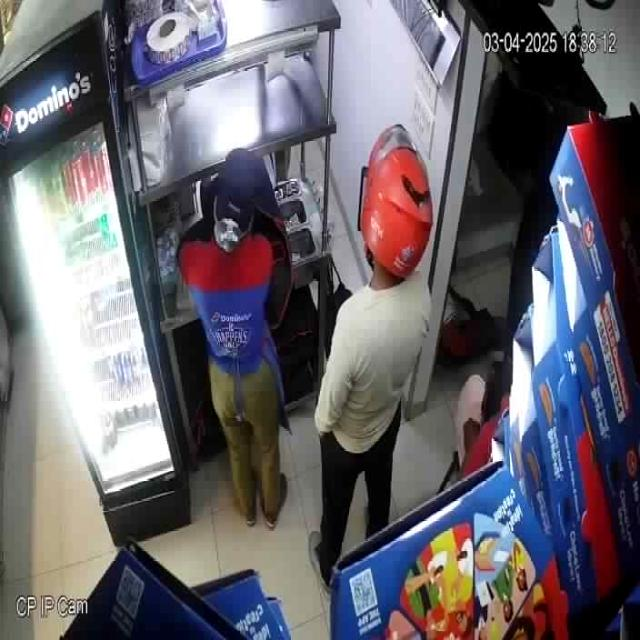helmet: (362, 123, 434, 289)
